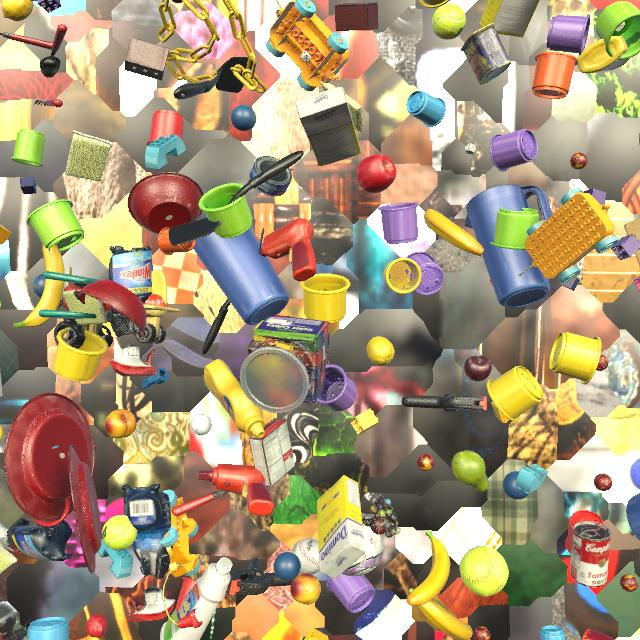ycb_003_cracker_box: (31, 0, 37, 1)
ycb_004_sugar_box: (295, 87, 361, 166), (317, 475, 365, 579), (479, 0, 539, 37)
ycb_005_tomato_soup_can: (570, 521, 611, 587)
ycb_006_mustard_bottle: (204, 359, 265, 438), (577, 36, 630, 73)
ycb_007_tuna_fish_can: (249, 156, 292, 197)
ycb_008_pudding_box: (249, 418, 295, 488), (0, 370, 3, 397)
ycb_010_potted_meat_can: (461, 23, 512, 85)
ycb_011_banana: (13, 243, 65, 329), (408, 588, 473, 640), (406, 530, 450, 606), (424, 209, 484, 256), (0, 425, 4, 443)
ycb_012_strawberry: (86, 613, 107, 638)
ycb_013_apple: (356, 155, 396, 193)
ycb_014_lemon: (367, 336, 394, 366), (1, 0, 33, 21)
ycb_015_peach: (290, 573, 321, 605), (105, 409, 137, 439)
ycb_016_pear: (451, 450, 489, 492), (639, 134, 640, 145)
ycb_018_plum: (464, 355, 492, 381)
